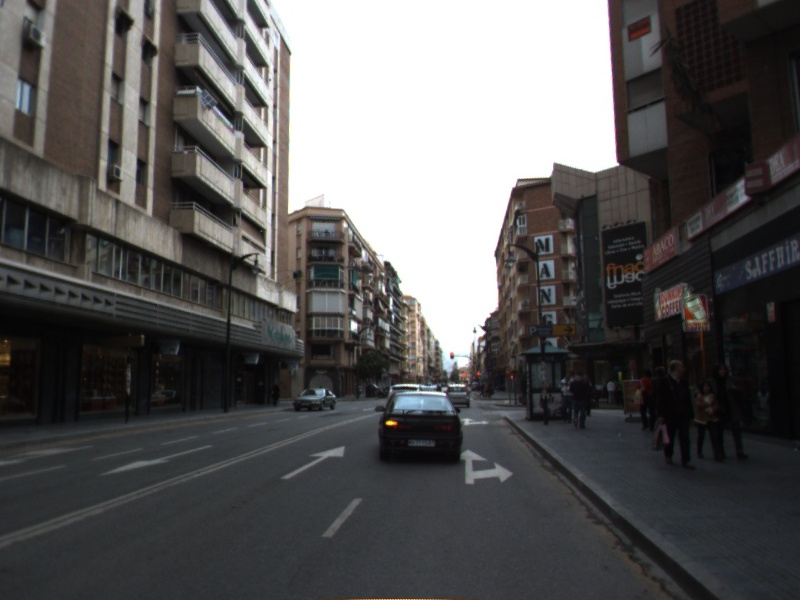STRAIGHT: (279, 444, 347, 481)
STRAIGHT_RIGHT: (458, 448, 516, 485), (458, 416, 491, 427)
